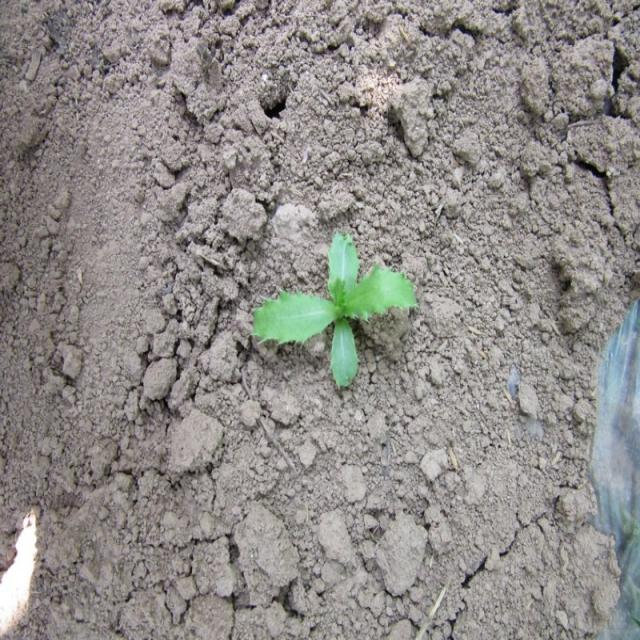cs: (250, 226, 420, 400)
